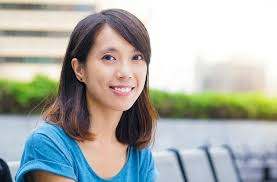bare: (86, 64, 147, 111)
